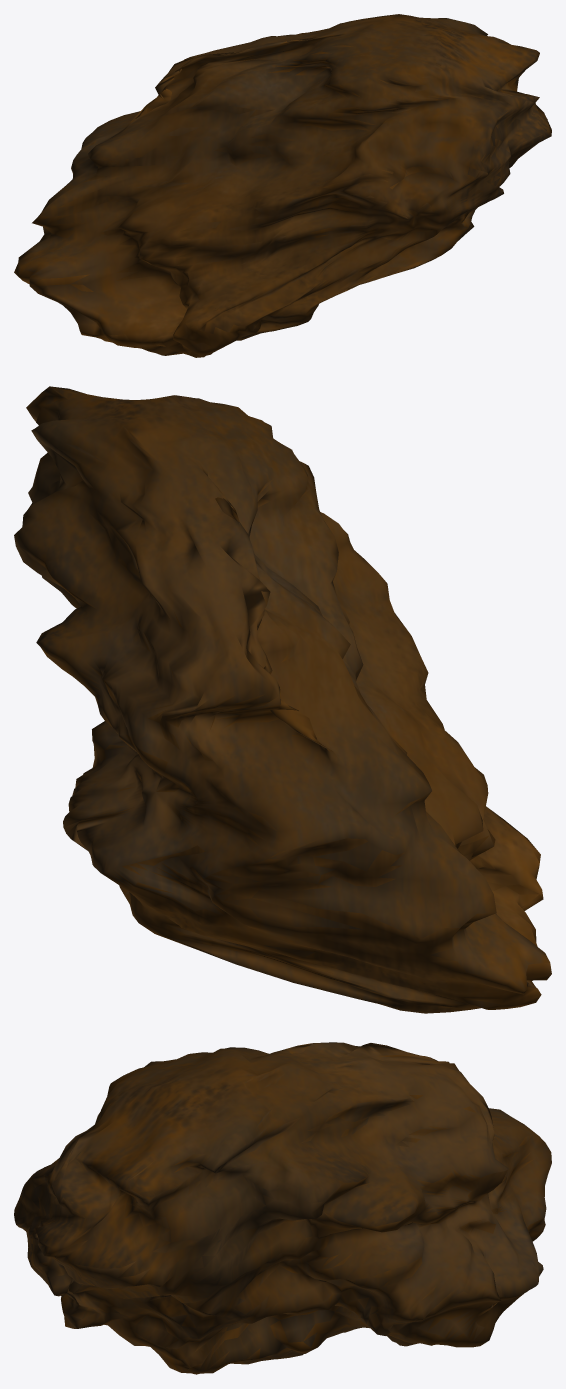
The model's file is asteroid.FBX.
3 views of the same model, one above another, from view 1: azimuth 30°, elevation 25°; view 2: azimuth 150°, elevation 25°; view 3: azimuth 270°, elevation 25° (orthographic). The views are drawn at different scales.
Visible parts, largest first — view 1: Sphere001; view 2: Sphere001; view 3: Sphere001.
Part boxes in pixels (x1,y1,x2,y2): Sphere001: (14, 14, 551, 357); Sphere001: (14, 386, 551, 1013); Sphere001: (14, 1042, 551, 1374).
Size of the model in its own units: 31.31 by 20.36 by 24.52.
1 material, 1 textured.
